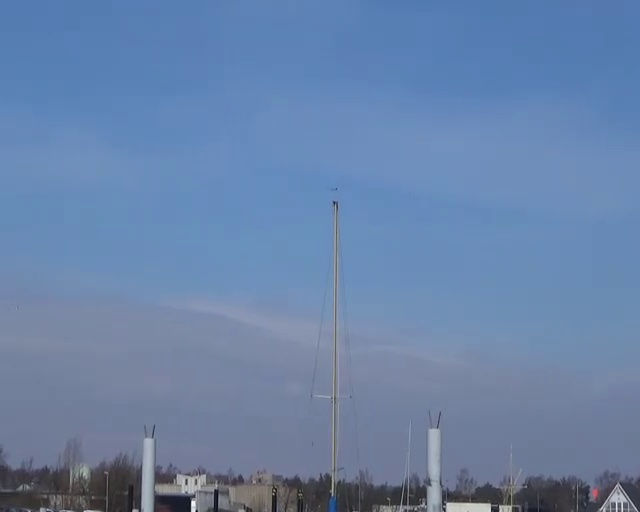BIRD: (82, 357, 93, 372)
